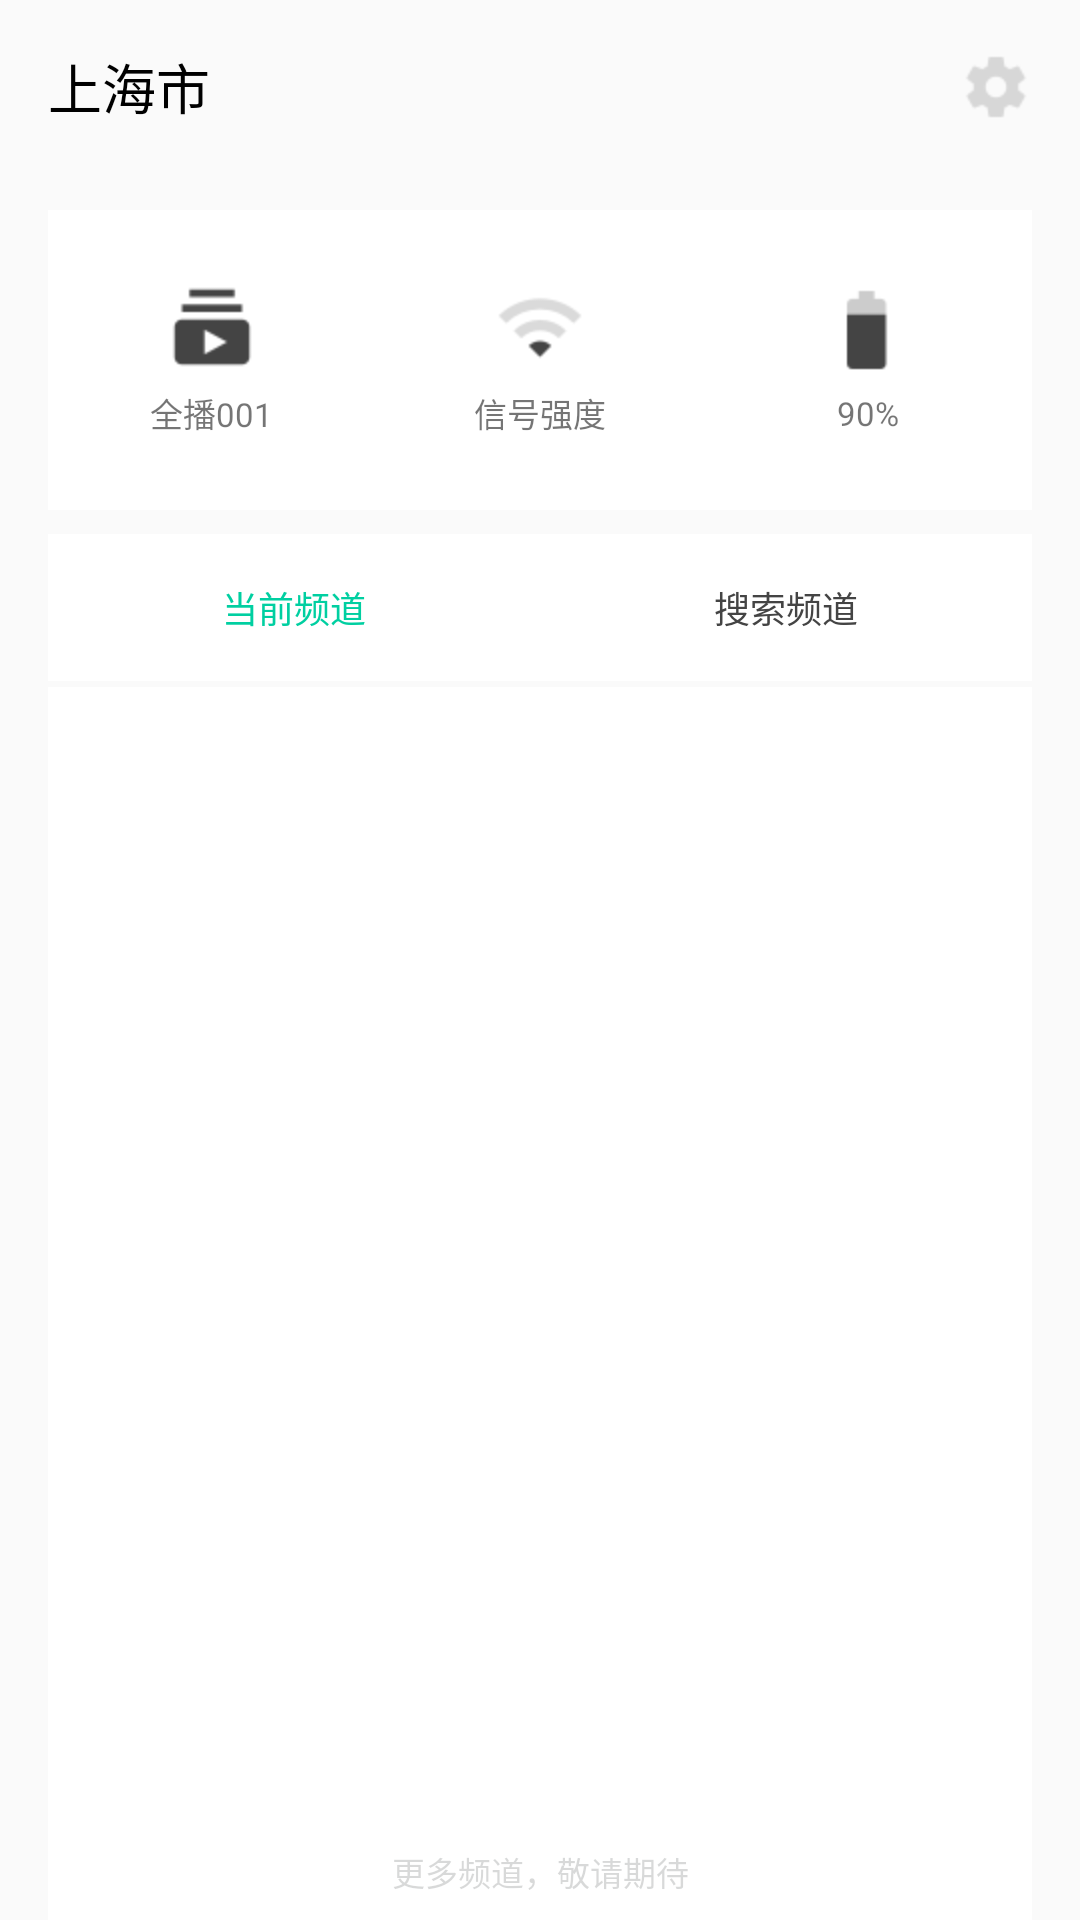

Where icons sit on this 1080px x 1920px app screen, as (x1=x1, y1=y1, x2=x2, y2=y2):
battery: (x1=846, y1=291, x2=887, y2=370)
home setting: (x1=968, y1=57, x2=1024, y2=117)
